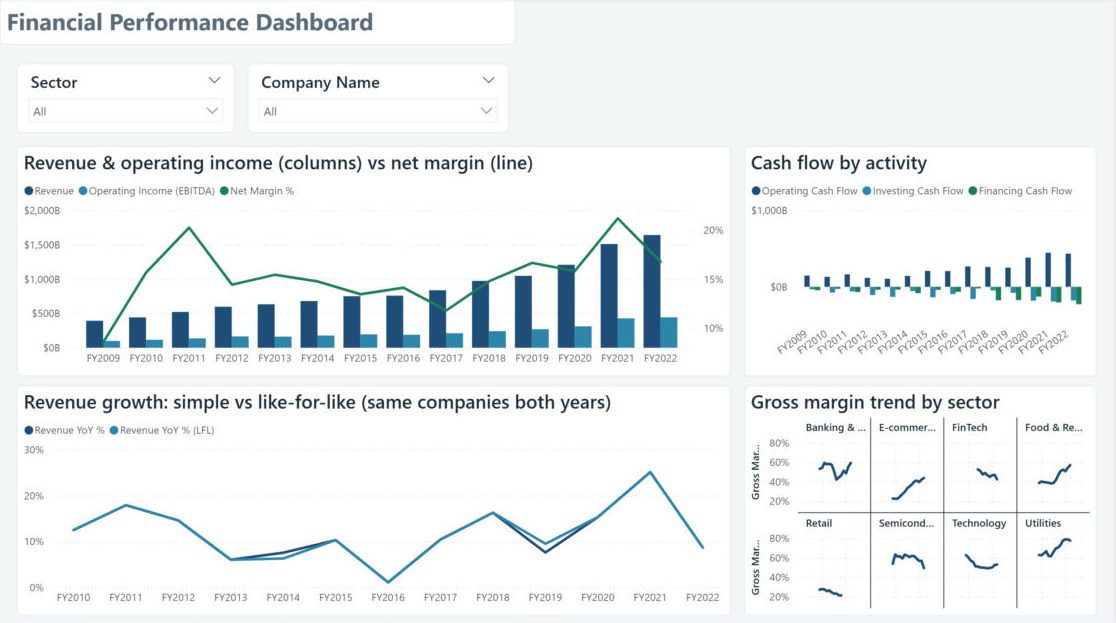

This screenshot's page, from the dashboard's own definition file:
{"tool":"powerbi","page":{"name":"Trends","canvas":[1280,720],"ordinal":1},"visuals":[{"type":"textbox","box":[0,0,592.8,53.6],"z":0},{"type":"slicer","fields":{"Values":["DimCompany.Sector Hierarchy.Sector"]},"box":[20,75,250,80],"z":2000},{"type":"slicer","fields":{"Values":["DimCompany.Sector Hierarchy.Company Name"]},"box":[285,75,300,80],"z":3000},{"type":"lineClusteredColumnComboChart","title":"Revenue & operating income (columns) vs net margin (line)","fields":{"Category":["DimYear.Fiscal Year"],"Y":["_Measures.Revenue","_Measures.Operating Income (EBITDA)"],"Y2":["_Measures.Net Margin %"]},"box":[20,170,820,265],"z":3001},{"type":"lineChart","title":"Revenue growth: simple vs like-for-like (same companies both years)","fields":{"Category":["DimYear.Fiscal Year"],"Y":["_Measures.Revenue YoY %","_Measures.Revenue YoY % (LFL)"]},"box":[20,445,820,265],"z":3002},{"type":"clusteredColumnChart","title":"Cash flow by activity","fields":{"Category":["DimYear.Fiscal Year"],"Y":["_Measures.Operating Cash Flow","_Measures.Investing Cash Flow","_Measures.Financing Cash Flow"]},"box":[855,170,405,265],"z":3003},{"type":"lineChart","title":"Gross margin trend by sector","fields":{"Y":["_Measures.Gross Margin %"],"Rows":["DimCompany.Sector Hierarchy.Sector"],"Category":["DimYear.Year"]},"box":[855,445,405,265],"z":3004}]}

Visuals, with their boxes in screenshot pixels (x1, y1, x2, y2), scaled from the page's 1280x720 canvas onto the 1116x623 screenshot:
textbox: {"left": 0, "top": 0, "right": 517, "bottom": 46}
slicer - DimCompany.Sector Hierarchy.Sector: {"left": 17, "top": 65, "right": 235, "bottom": 134}
slicer - DimCompany.Sector Hierarchy.Company Name: {"left": 248, "top": 65, "right": 510, "bottom": 134}
"Revenue & operating income (columns) vs net margin (line)" lineClusteredColumnComboChart: {"left": 17, "top": 147, "right": 732, "bottom": 376}
"Revenue growth: simple vs like-for-like (same companies both years)" lineChart: {"left": 17, "top": 385, "right": 732, "bottom": 614}
"Cash flow by activity" clusteredColumnChart: {"left": 745, "top": 147, "right": 1099, "bottom": 376}
"Gross margin trend by sector" lineChart: {"left": 745, "top": 385, "right": 1099, "bottom": 614}
